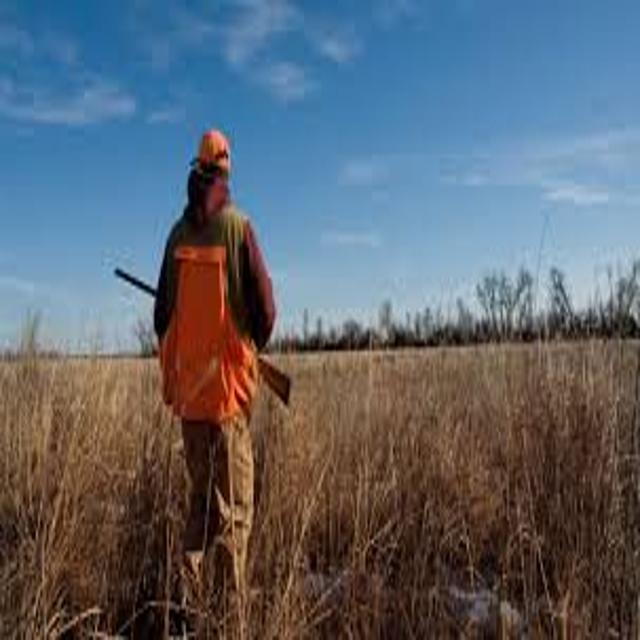poacher: (86, 106, 333, 604)
